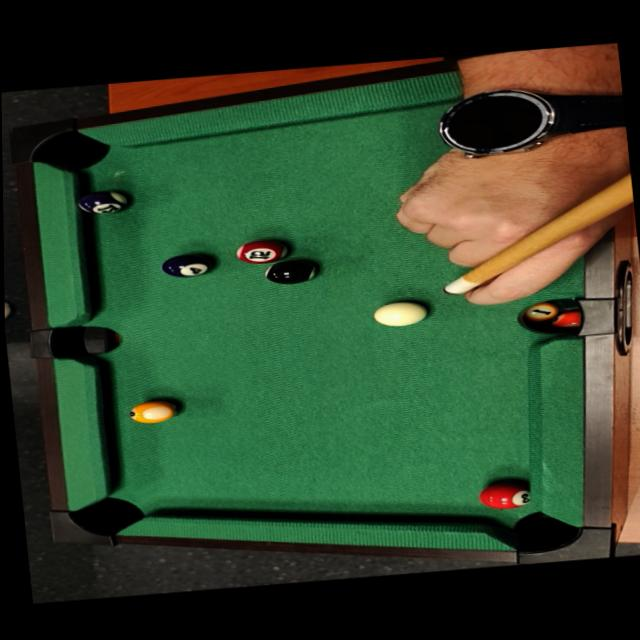cue ball: (367, 296, 433, 330)
other: (474, 474, 537, 511), (157, 249, 223, 281), (75, 183, 139, 216), (258, 256, 325, 285), (231, 235, 293, 265), (123, 397, 182, 426)
